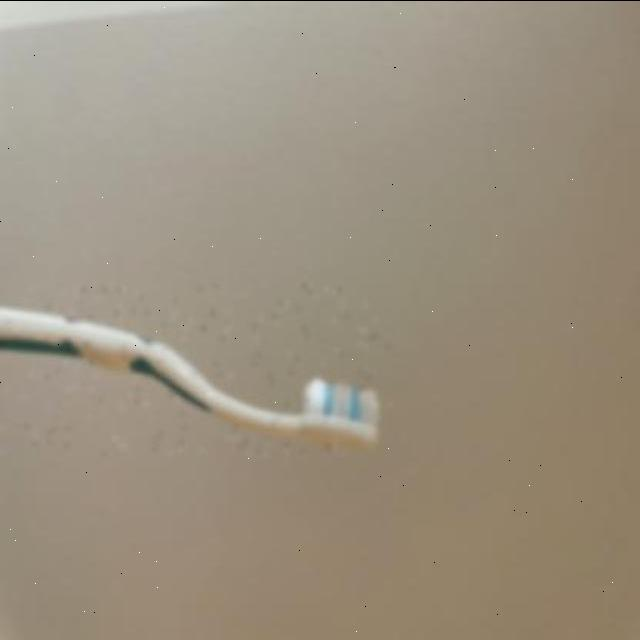toothbrush: (0, 285, 392, 455)
